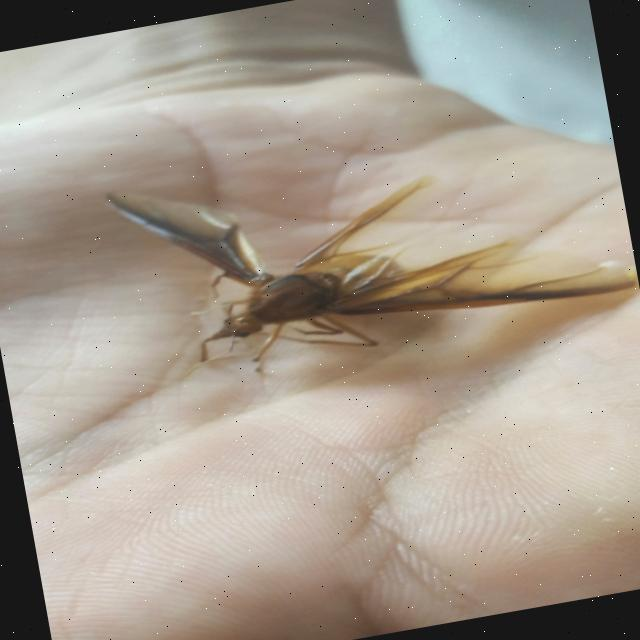Alive-Male-Alate: (101, 103, 640, 399)
